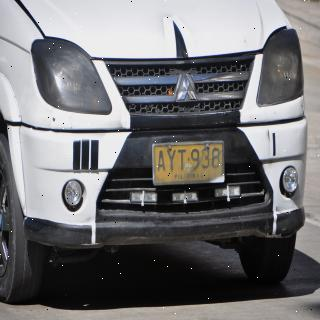license: (154, 142, 225, 186)
